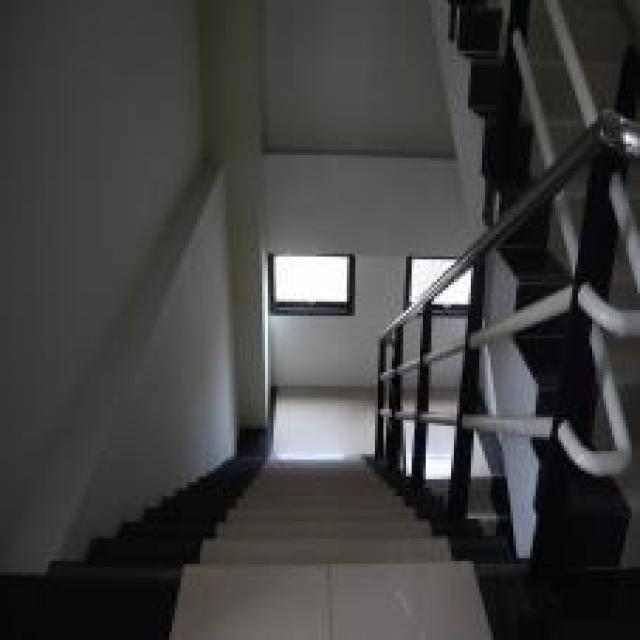downstair: (198, 480, 410, 624)
